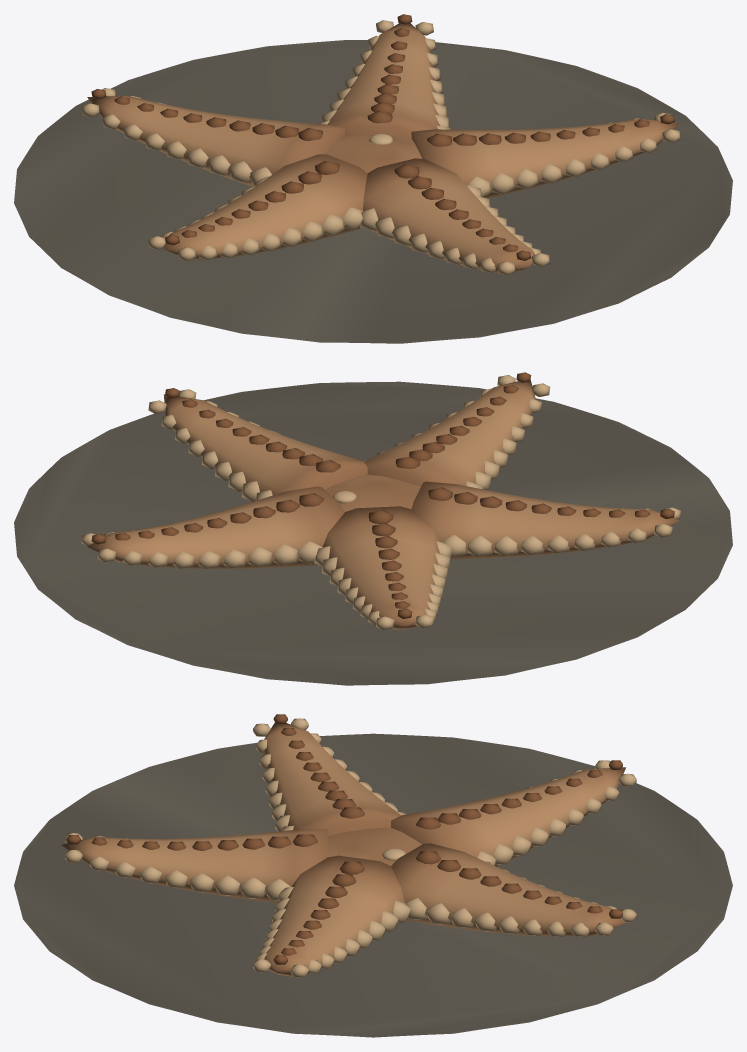
Rendered from HudsonasterIncomptus.fbx.
The picture shows the model from 3 angles, top to bottom: view 1: azimuth 30°, elevation 25°; view 2: azimuth 150°, elevation 25°; view 3: azimuth 270°, elevation 25°; orthographic projection.
Visible parts, largest first — view 1: HudsonasterIncomptus; view 2: HudsonasterIncomptus; view 3: HudsonasterIncomptus.
Part boxes in pixels (box(x1,y1,x2,y2)): HudsonasterIncomptus: box(14, 14, 732, 343); HudsonasterIncomptus: box(14, 372, 732, 685); HudsonasterIncomptus: box(14, 714, 732, 1037).
Size of the model in its own units: 1.73 by 0.1603 by 1.73.
